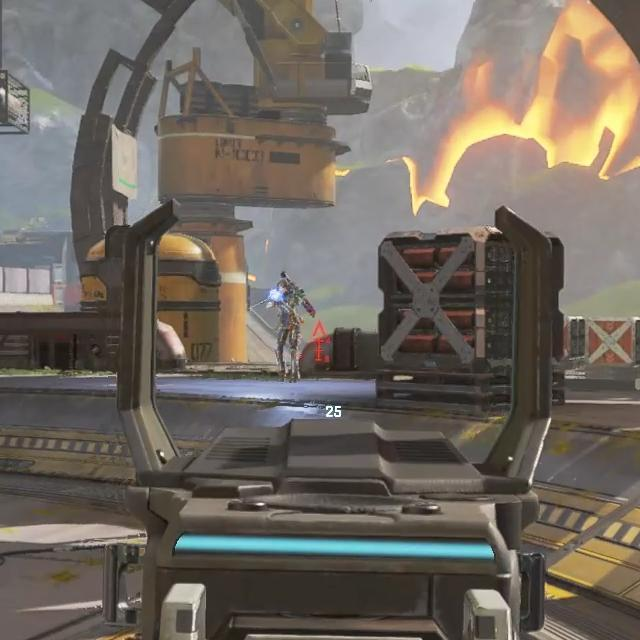avatar: (263, 277, 307, 384)
